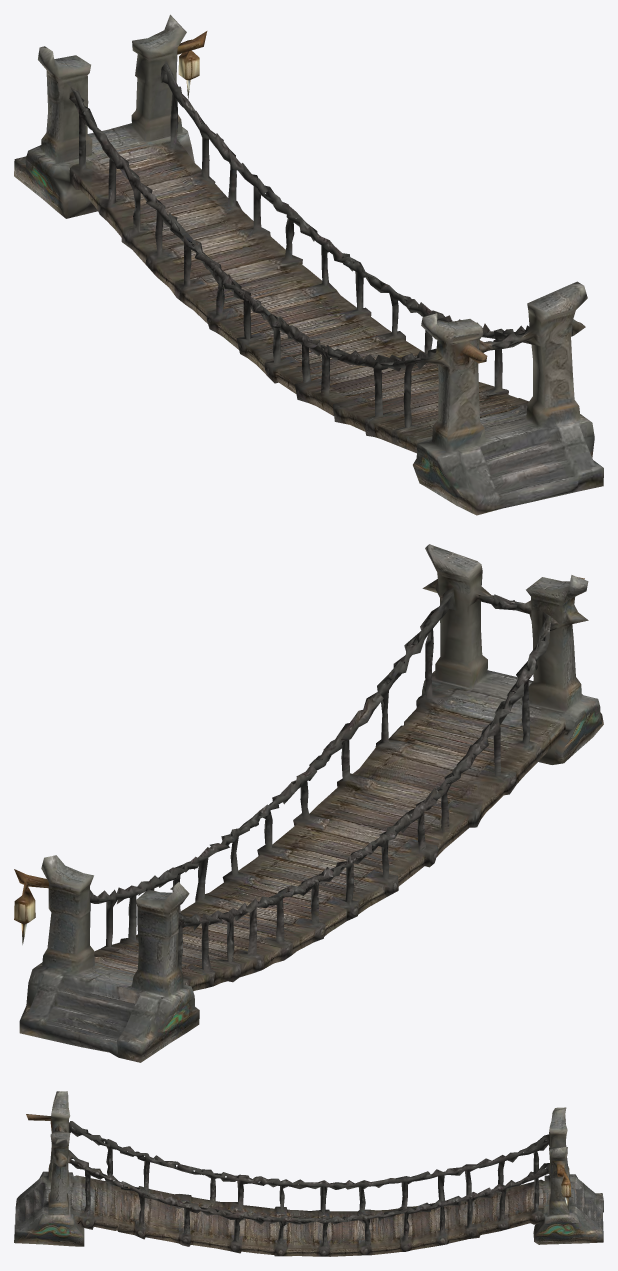
The model's file is prop_cau_may.8f6006b5f4.glb.
3 views of the same model, one above another, from view 1: azimuth 30°, elevation 25°; view 2: azimuth 150°, elevation 25°; view 3: azimuth 270°, elevation 25° (orthographic). The views are drawn at different scales.
Parts seen in each view (by area): view 1: prop_cau_may; view 2: prop_cau_may; view 3: prop_cau_may.
Part boxes in pixels (left/top/right/bottom): prop_cau_may: left=14, top=14, right=603, bottom=515; prop_cau_may: left=14, top=544, right=603, bottom=1062; prop_cau_may: left=14, top=1091, right=603, bottom=1256.
Size of what is drawn, in the model's own units: 4.02 by 4.18 by 18.
1 material, 1 textured.
